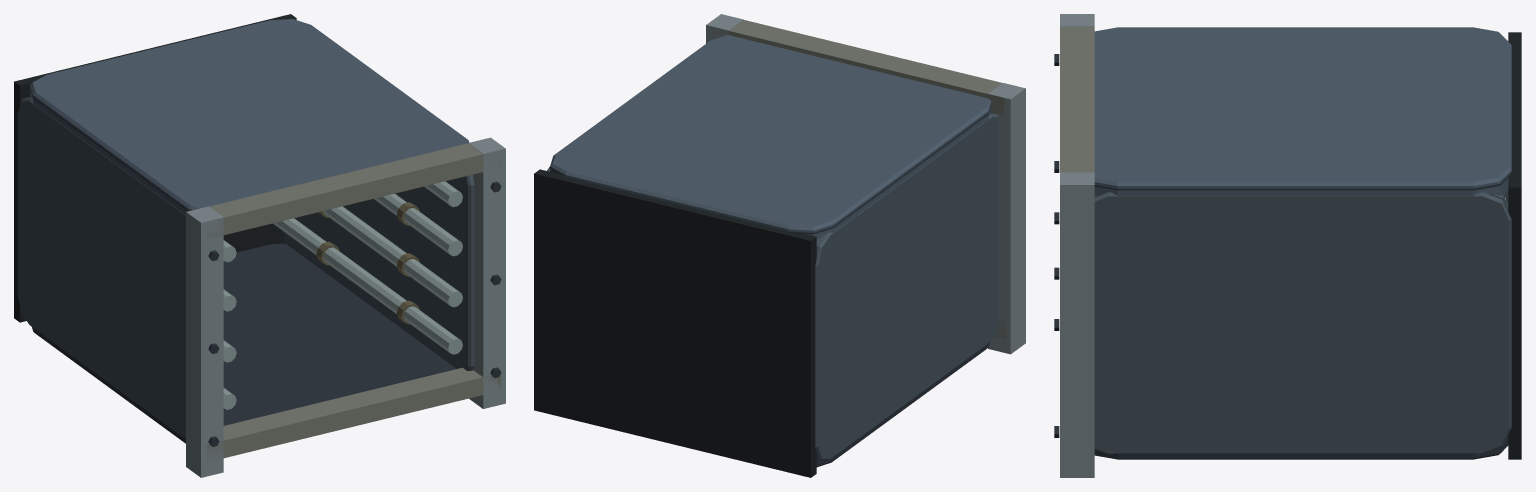
The model's file is HX-01_pipe_recess.glb.
3 views of the same model, side by side, from view 1: azimuth 30°, elevation 25°; view 2: azimuth 150°, elevation 25°; view 3: azimuth 270°, elevation 25° (orthographic). The views are drawn at different scales.
Visible parts, largest first — view 1: HX-01_pipe_recess; view 2: HX-01_pipe_recess; view 3: HX-01_pipe_recess.
Boxes of the visible parts, box(x1,y1,x2,y2) form: HX-01_pipe_recess: box(14, 14, 505, 477); HX-01_pipe_recess: box(534, 14, 1025, 477); HX-01_pipe_recess: box(1054, 14, 1521, 477).
Size of the model in its own units: 1.75 by 1.4 by 2.02.
